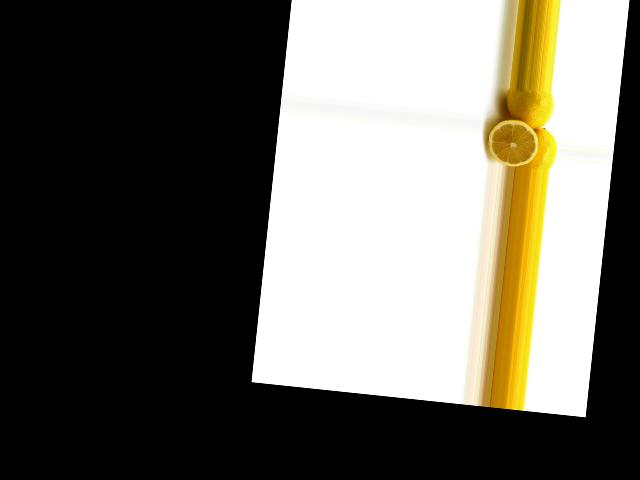lemon: (515, 118, 557, 170)
